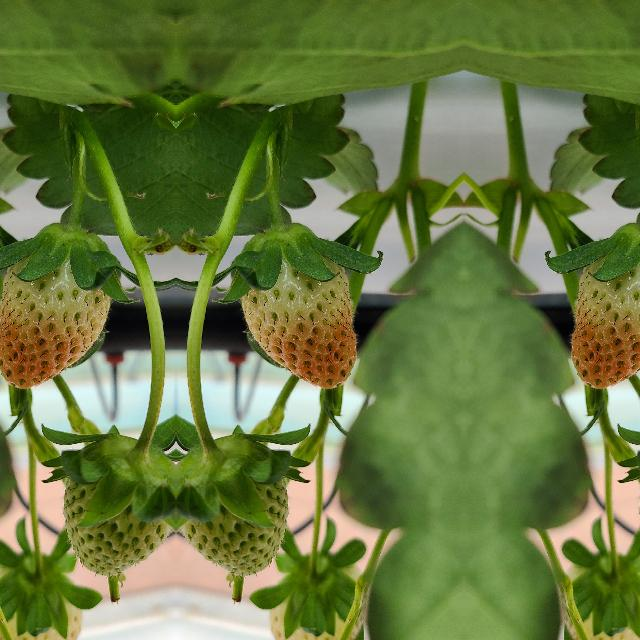Health_25: (175, 446, 292, 576), (58, 446, 175, 576)
Health_50: (240, 258, 356, 388), (0, 258, 109, 387), (570, 258, 640, 387)
